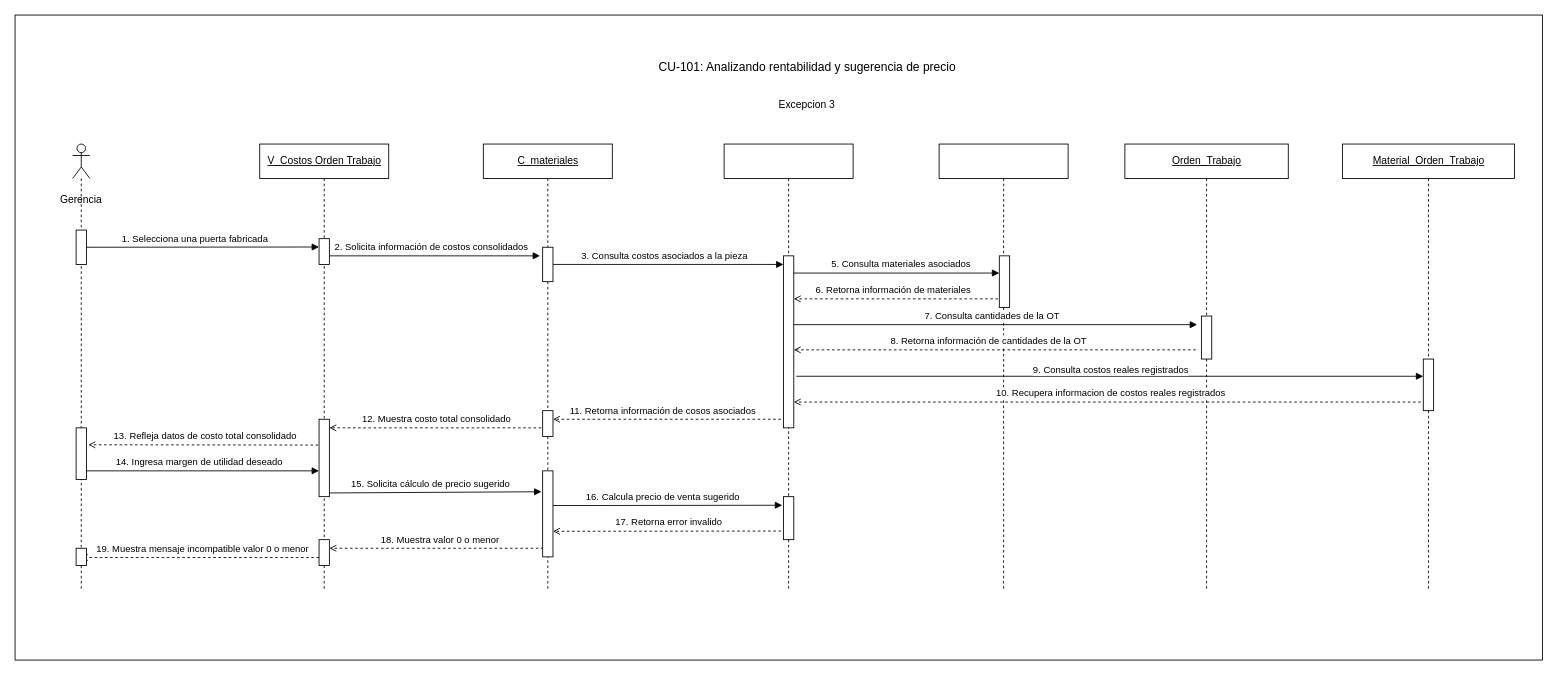
This 1557x675 diagram has some shape labels left out. Here are the shapes that lost their labels. From the top down, the box of each, then its label:
(723, 143, 853, 591): C_Postgre
(938, 143, 1068, 591): Material
